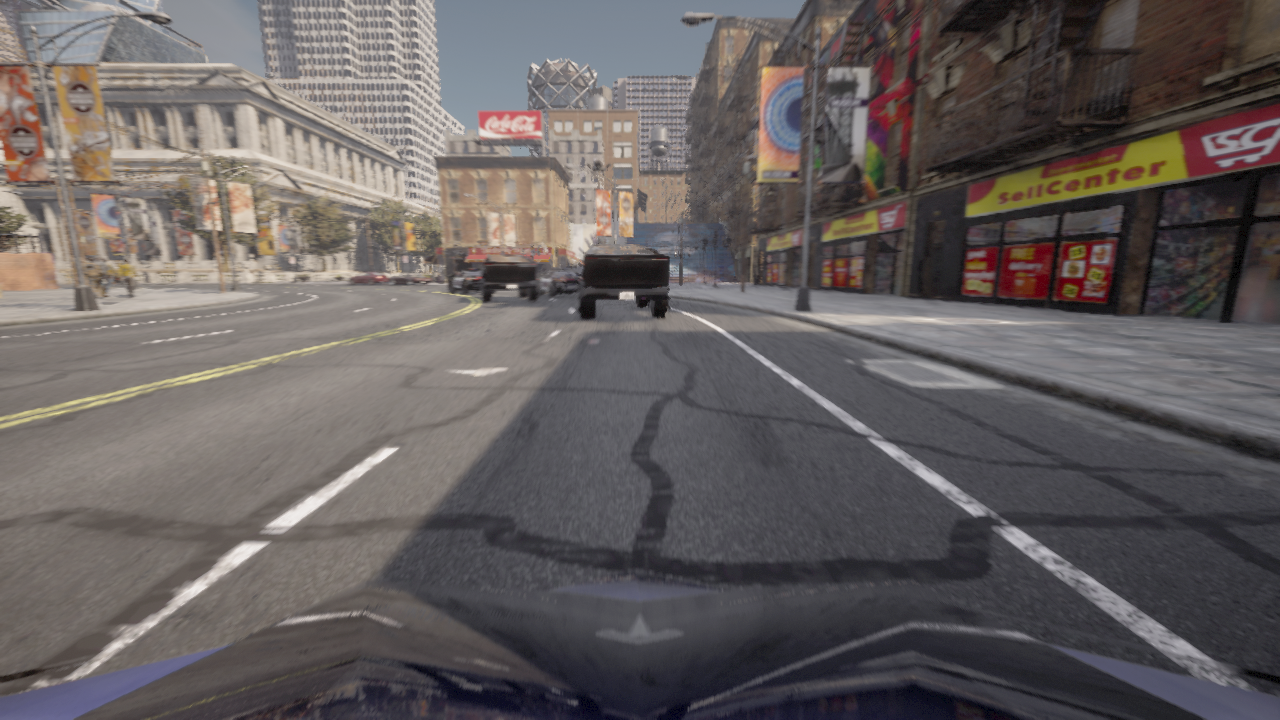cyclist: (0, 569, 1279, 719), (577, 245, 669, 317), (478, 255, 539, 301), (537, 268, 582, 296), (448, 269, 495, 293), (348, 272, 388, 285), (388, 273, 430, 285), (448, 268, 482, 282), (113, 276, 124, 285), (537, 273, 545, 279), (449, 274, 451, 278)
pedestrian: (84, 257, 102, 297), (119, 258, 137, 296), (95, 257, 112, 296), (101, 257, 116, 296), (101, 278, 105, 296)
